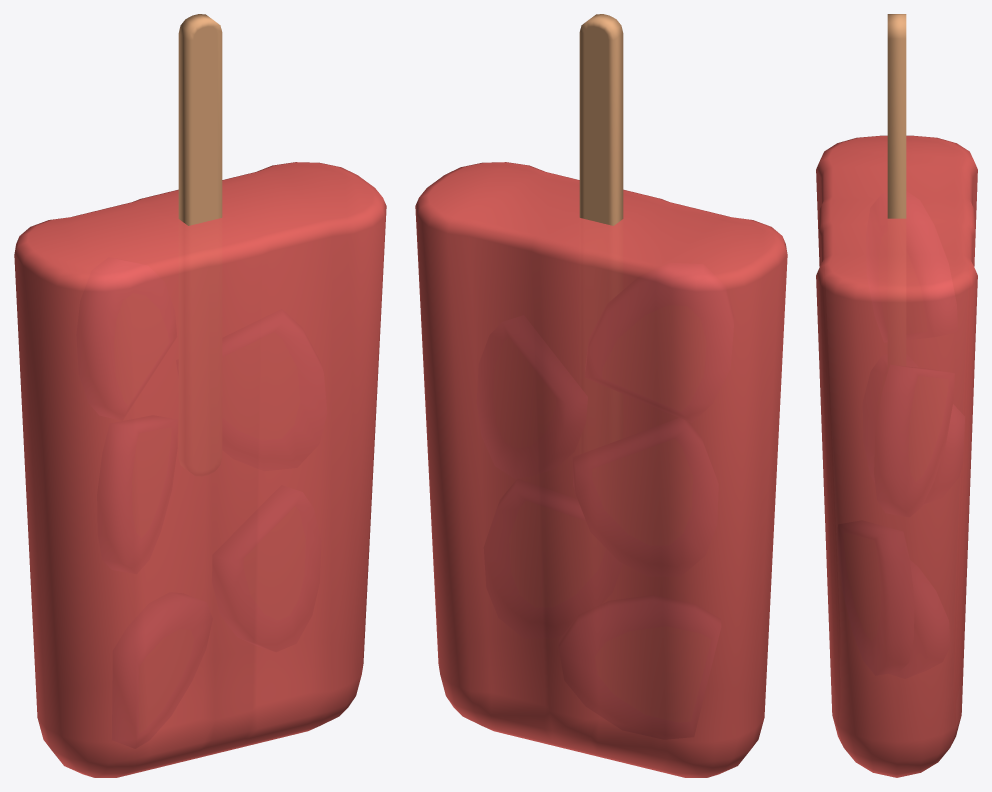
File: popsicles_strawb.fbx
3 renders of one model, left to right at view 1: azimuth 30°, elevation 25°; view 2: azimuth 150°, elevation 25°; view 3: azimuth 270°, elevation 25°, orthographic. The views are drawn at different scales.
Visible parts, largest first — view 1: popsicles_strawb; view 2: popsicles_strawb; view 3: popsicles_strawb.
Part boxes in pixels (x1,y1,x2,y2): popsicles_strawb: [14, 14, 386, 777]; popsicles_strawb: [415, 14, 787, 777]; popsicles_strawb: [816, 14, 977, 777].
Size of the model in its own units: 200 by 413 by 85.34.
